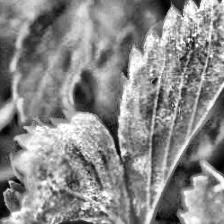Powdery Mildew Leaf: (116, 0, 224, 224), (0, 110, 136, 224)
